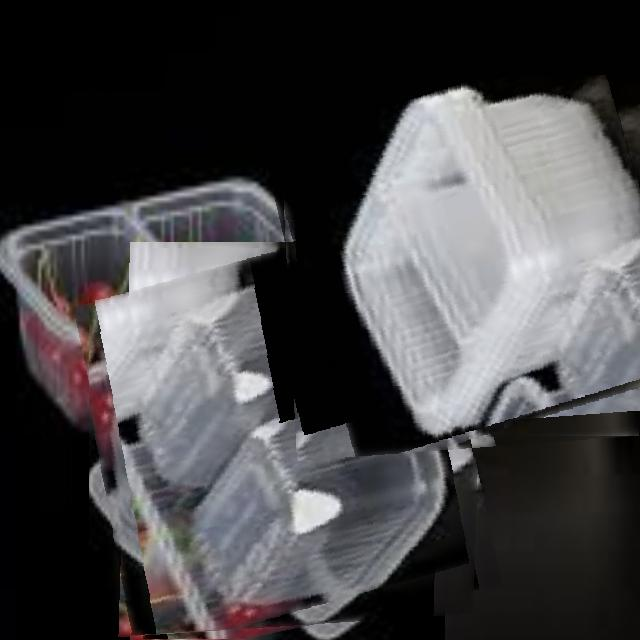recyclable: (89, 248, 485, 640), (277, 75, 640, 461)
